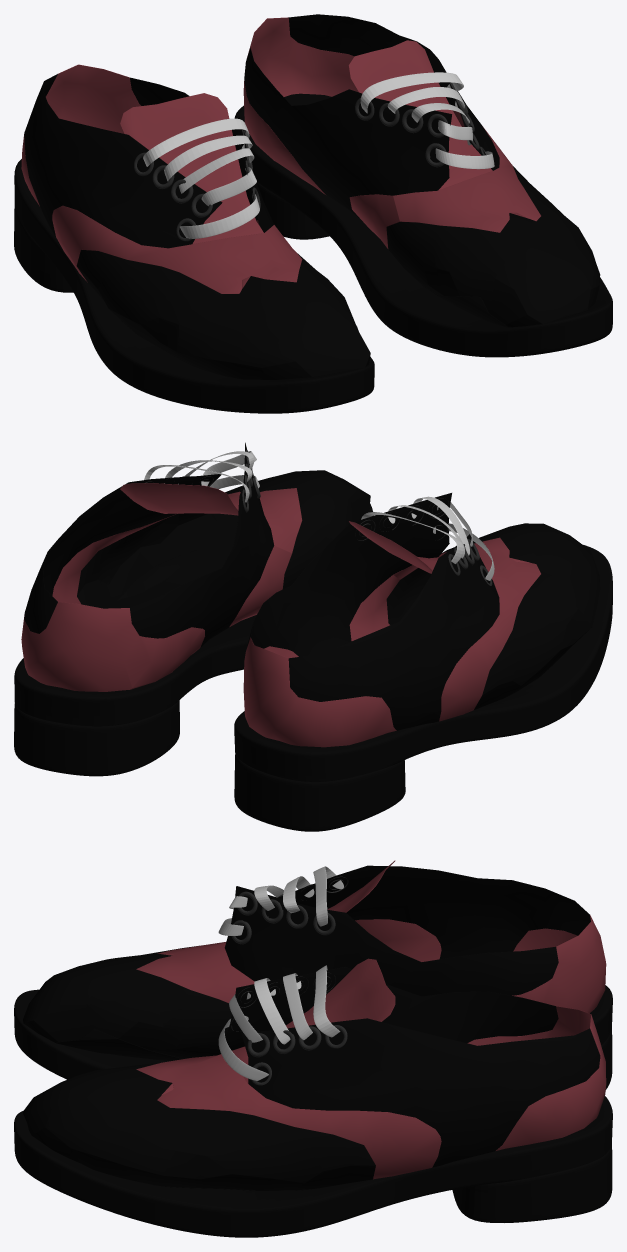
The picture shows the model from 3 angles, top to bottom: view 1: azimuth 30°, elevation 25°; view 2: azimuth 150°, elevation 25°; view 3: azimuth 270°, elevation 25°; orthographic projection.
Visible parts, largest first — view 1: zapato2.001, zapato2, Plane, Plane.011, Plane.007, Plane.004, Plane.006, Plane.008, Plane.003, Plane.010, Plane.009, Plane.005; view 2: zapato2.001, zapato2, Plane.011, Plane, Plane.010; view 3: zapato2, zapato2.001, Plane, Plane.011, Plane.001, Plane.003, Plane.004, Plane.007, Plane.005, Plane.008, Plane.002.
Part boxes in pixels (x1,y1,x2,y2): zapato2.001: (21,64,370,379); zapato2: (243,14,600,327); Plane: (234,93,612,357); Plane.011: (14,159,374,413); Plane.007: (143,118,249,166); Plane.004: (360,72,463,113); Plane.006: (180,194,259,238); Plane.008: (164,135,252,181); Plane.003: (387,87,464,113); Plane.010: (179,148,254,193); Plane.009: (201,167,256,206); Plane.005: (435,148,494,169); zapato2.001: (243,493,600,747); zapato2: (21,442,370,691); Plane.011: (234,545,612,831); Plane: (14,503,373,776); Plane.010: (411,496,469,555); zapato2: (23,958,606,1190); zapato2.001: (23,860,606,1060); Plane: (14,1096,612,1237); Plane.011: (14,985,612,1089); Plane.001: (254,978,290,1044); Plane.003: (283,973,312,1040); Plane.004: (313,965,340,1037); Plane.007: (313,866,343,926); Plane.005: (218,1016,268,1080); Plane.008: (283,876,314,913); Plane.002: (229,992,262,1042).
Bounding box in the file's own units: 390 × 176 × 447.
